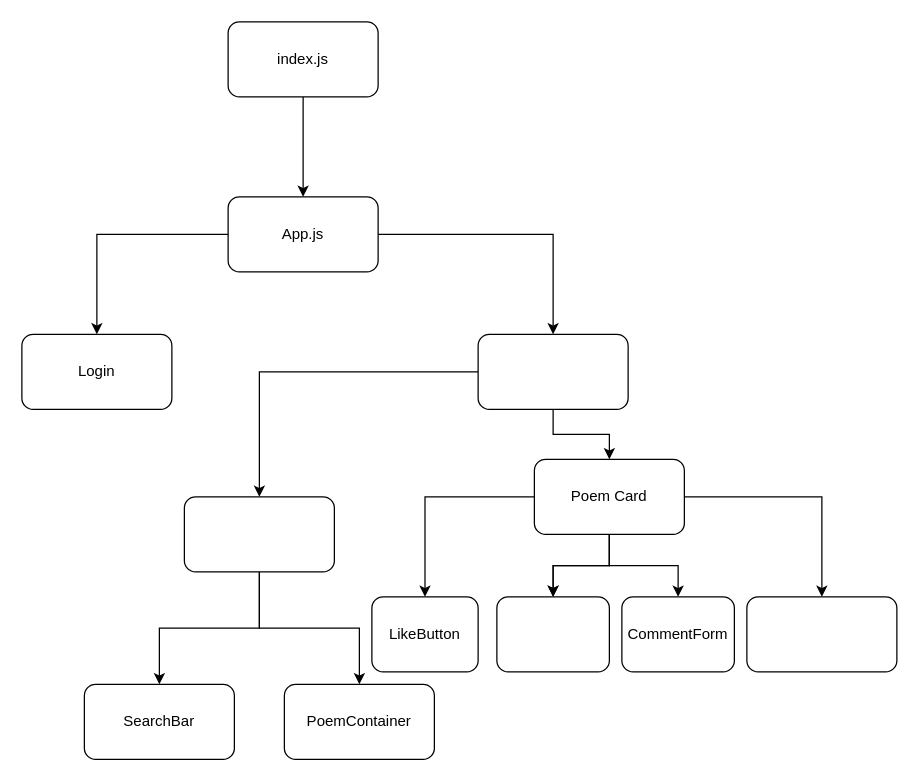
The diagram is 919 pixels wide and 781 high, and some of its shapes have lost their labels. Here are the shapes that lost their labels. From the top down, the box of each, then its label:
(477, 333, 628, 409): MainContainer
(183, 496, 334, 572): SideBar
(496, 596, 609, 672): NewPoemForm
(746, 596, 897, 672): CommentSection
